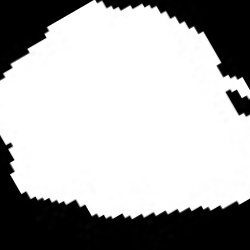spot: (1, 1, 249, 219)
